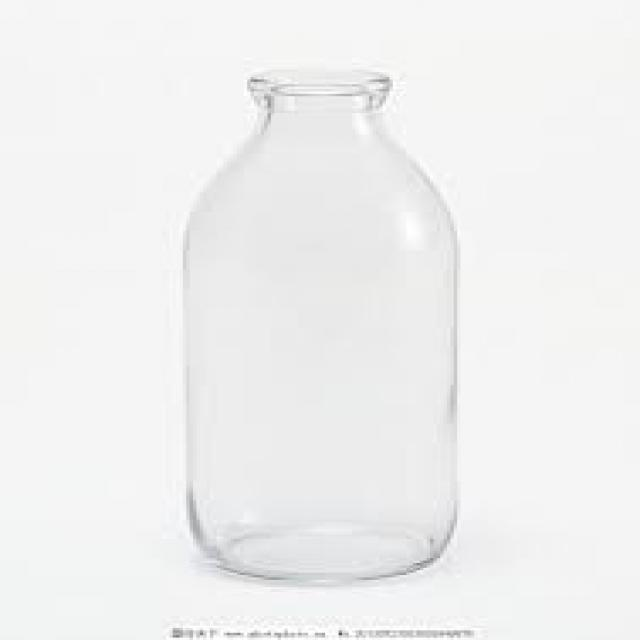Glass-Non-Biodegradable but Recyclable-: (189, 79, 457, 584)
